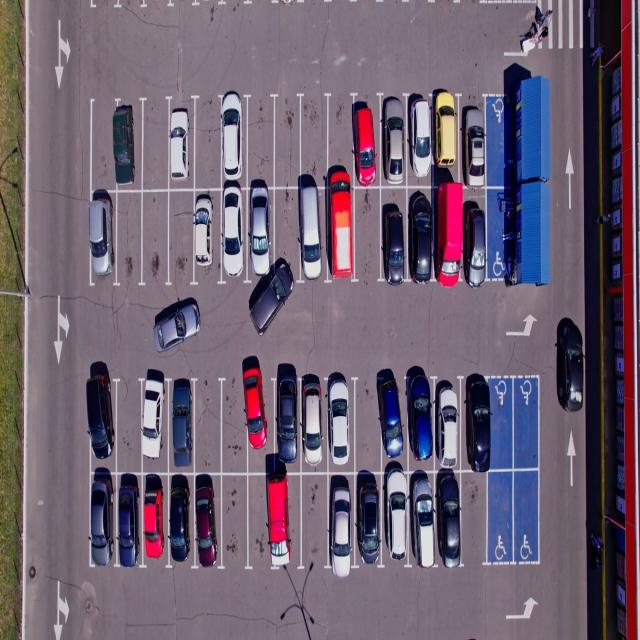space-empty: (300, 474, 332, 571), (193, 377, 225, 473), (139, 192, 171, 288), (509, 469, 541, 565), (114, 191, 146, 285), (352, 188, 384, 282), (485, 470, 516, 566), (458, 468, 488, 567), (221, 372, 250, 472), (509, 378, 540, 470), (220, 475, 250, 569), (193, 96, 224, 186), (167, 192, 196, 288), (114, 378, 144, 470), (353, 374, 382, 467), (244, 475, 272, 570), (246, 95, 276, 183), (488, 375, 516, 469), (141, 97, 170, 186), (272, 96, 302, 182), (274, 188, 302, 280), (300, 95, 330, 180), (87, 102, 114, 190), (328, 96, 356, 180)
space-occupied: (267, 473, 304, 571), (244, 369, 279, 471), (378, 468, 413, 569), (327, 472, 361, 573), (352, 471, 385, 572), (432, 184, 464, 287), (409, 472, 442, 570), (192, 472, 225, 568), (272, 371, 304, 470), (376, 372, 408, 470), (296, 185, 329, 280), (217, 188, 249, 285), (326, 374, 359, 468), (85, 373, 116, 472), (113, 100, 147, 190), (463, 377, 495, 472), (405, 373, 437, 468), (328, 188, 360, 283), (168, 376, 200, 470), (378, 185, 409, 282), (138, 378, 170, 471), (138, 472, 169, 568), (465, 188, 495, 287), (407, 188, 437, 286), (297, 374, 327, 472), (434, 470, 464, 568), (168, 474, 198, 571), (194, 189, 225, 282), (168, 98, 200, 188), (114, 471, 144, 567), (248, 189, 279, 281), (87, 191, 117, 286), (218, 94, 249, 184), (434, 378, 465, 468), (461, 94, 491, 186), (407, 94, 438, 183), (431, 94, 462, 183), (88, 472, 116, 570), (380, 95, 410, 186), (352, 97, 381, 185)
